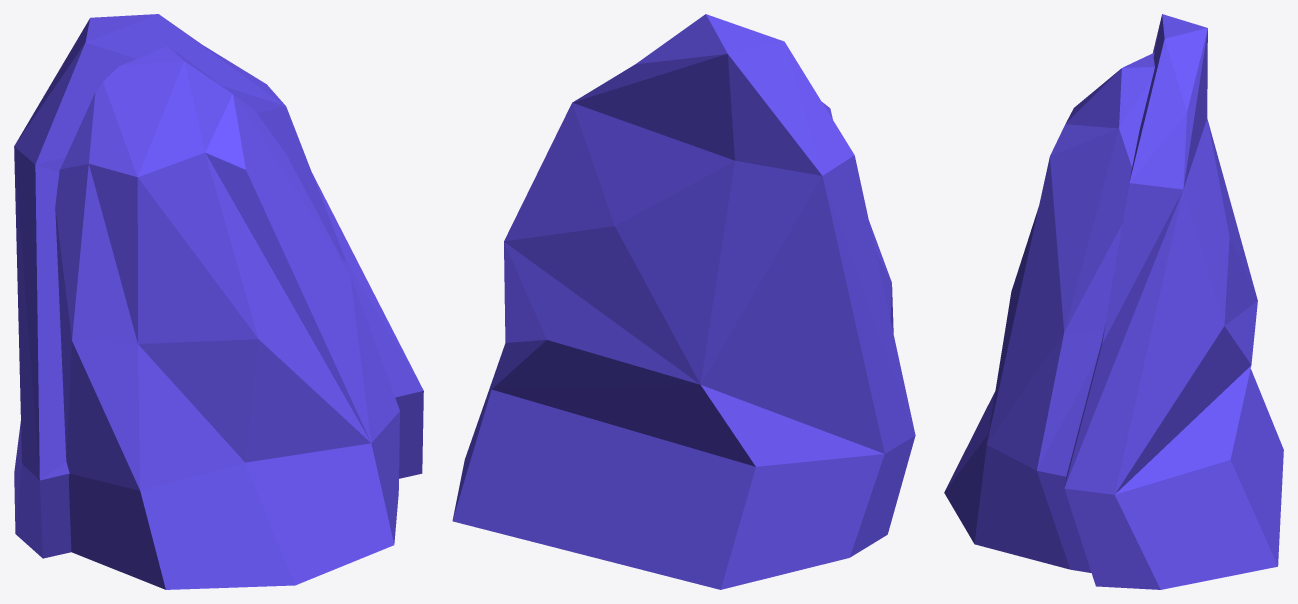
Rendered from VL_Rock01.fbx.
The picture shows the model from 3 angles, left to right: view 1: azimuth 30°, elevation 25°; view 2: azimuth 150°, elevation 25°; view 3: azimuth 270°, elevation 25°; orthographic projection. The views are drawn at different scales.
Visible parts, largest first — view 1: VL_Rock01; view 2: VL_Rock01; view 3: VL_Rock01.
Part boxes in pixels (x1,y1,x2,y2): VL_Rock01: (14, 14, 423, 589); VL_Rock01: (452, 14, 915, 589); VL_Rock01: (944, 14, 1283, 589).
Bounding box in the file's own units: 79.05 × 93.35 × 64.37.
1 material, 1 textured.
